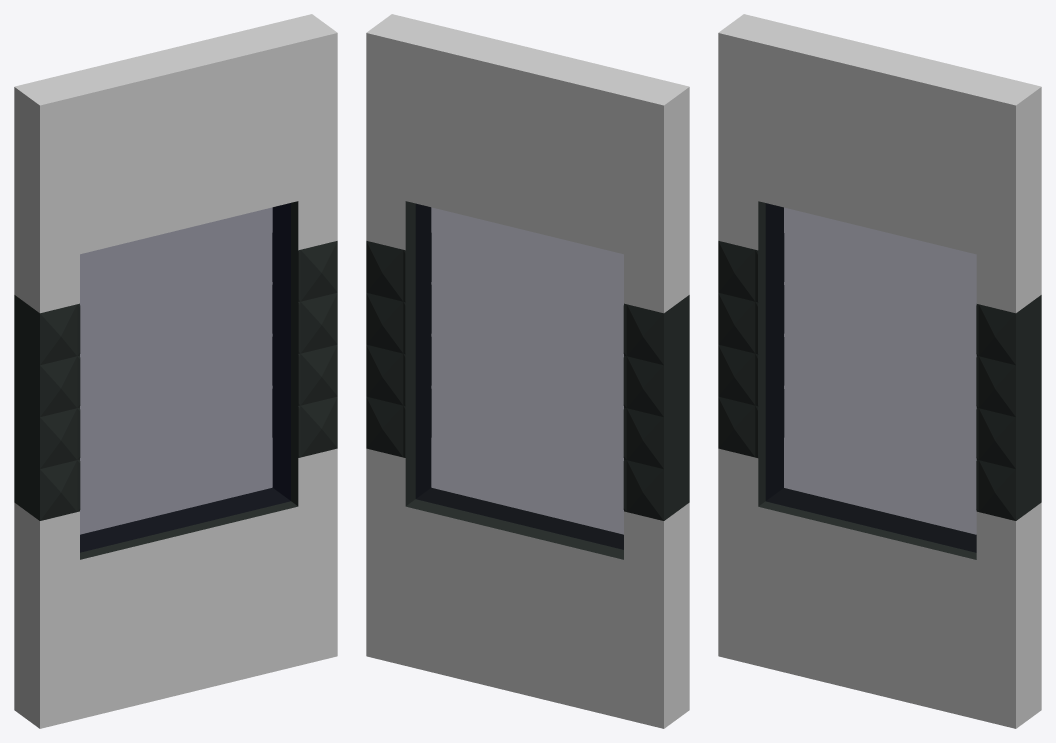
File: AcousticPanelWindow.glb
3 views of the same model, side by side, from view 1: azimuth 30°, elevation 25°; view 2: azimuth 150°, elevation 25°; view 3: azimuth 330°, elevation 25° (orthographic).
Visible parts, largest first — view 1: wall_AcousticPanel_window; view 2: wall_AcousticPanel_window; view 3: wall_AcousticPanel_window.
Boxes of the visible parts, bbox=[...] form: wall_AcousticPanel_window: bbox=[14, 14, 337, 728]; wall_AcousticPanel_window: bbox=[366, 14, 689, 728]; wall_AcousticPanel_window: bbox=[718, 14, 1041, 728].
Size of what is drawn, in the model's own units: 2 by 4 by 0.3584.
2 materials, 2 textured.
